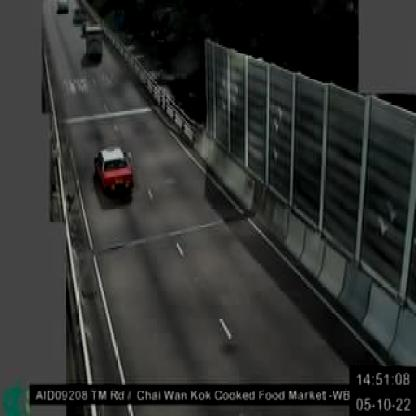Car: (93, 144, 132, 194)
